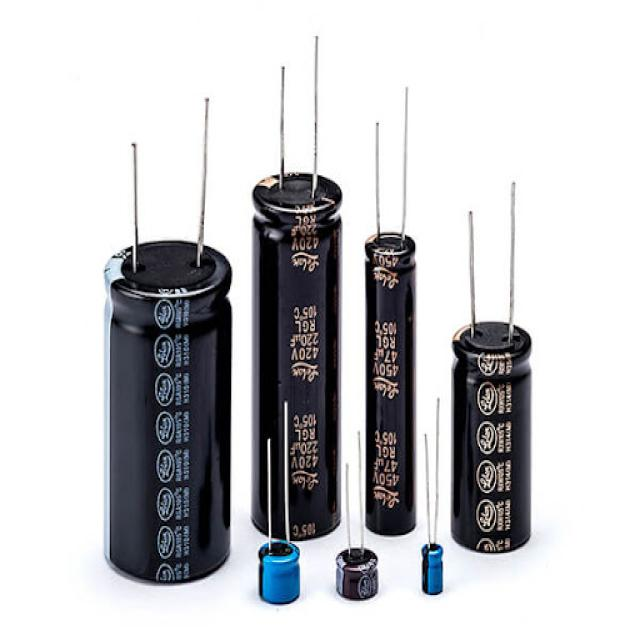Capacitor: (105, 144, 231, 582), (252, 39, 341, 539), (451, 183, 531, 552), (365, 232, 416, 535), (259, 402, 300, 603), (421, 397, 442, 594), (336, 546, 378, 600)
